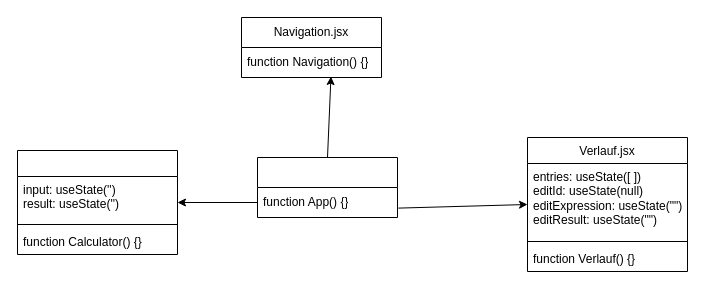
Some shapes in this 705 by 292 pixel diagram are drawn without their labels. The shapes that lost their labels are listed below. From the top down, each one's box as (x1, y1, x2, y2) in pixels, then its label:
(16, 150, 178, 254): Calculator .jsx
(256, 156, 398, 218): App.jsx
